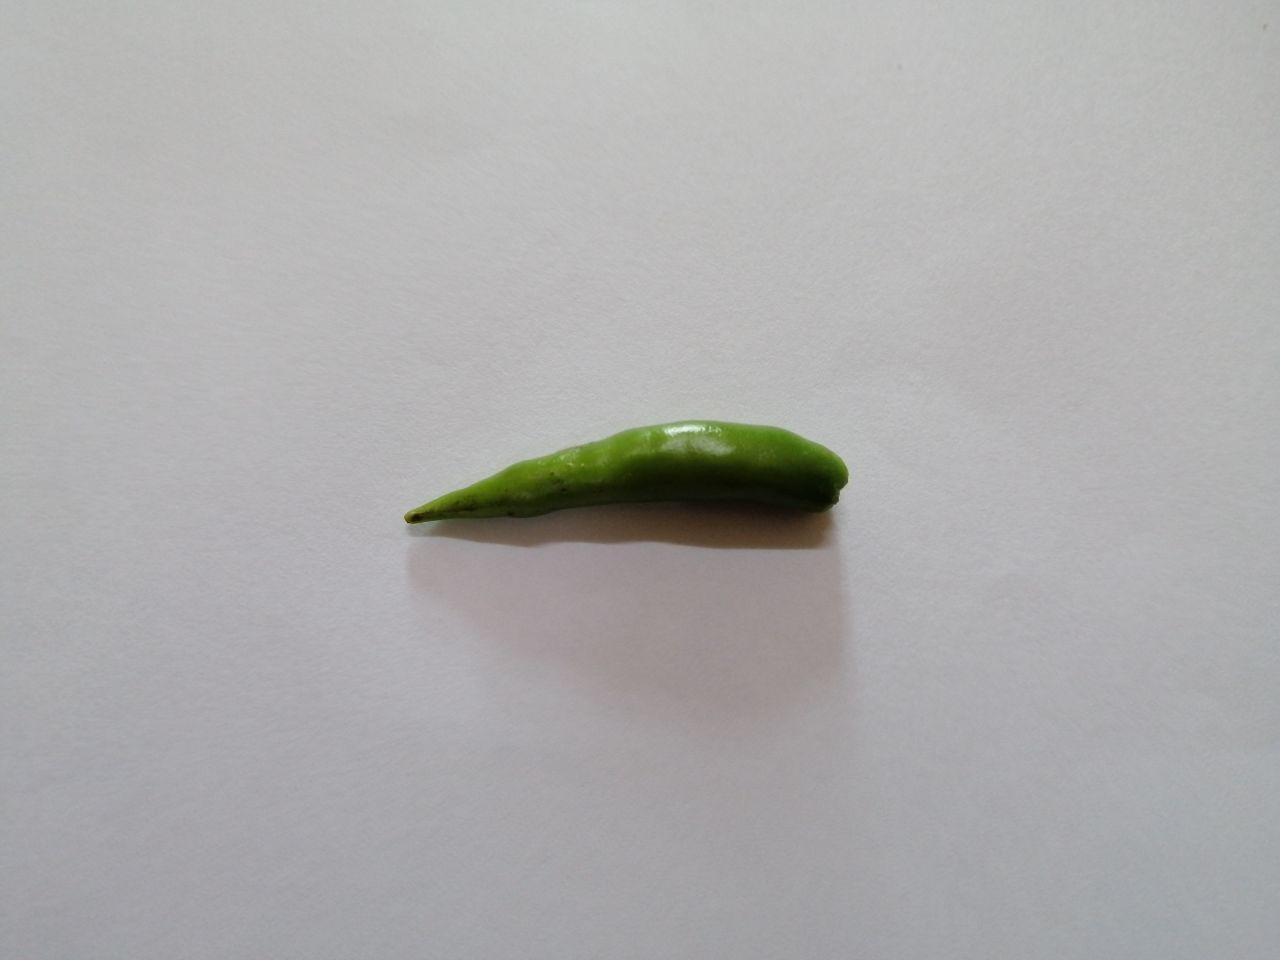lada hijau: (384, 405, 869, 561)
